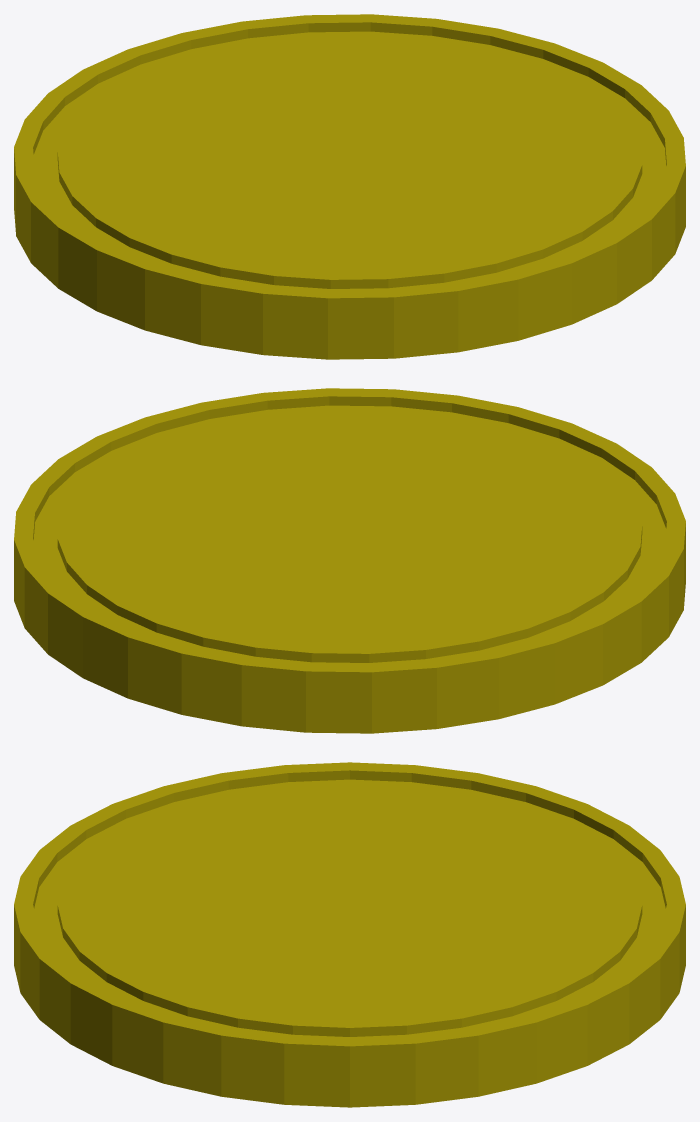
File: COIN.fbx
The picture shows the model from 3 angles, top to bottom: view 1: azimuth 30°, elevation 25°; view 2: azimuth 150°, elevation 25°; view 3: azimuth 270°, elevation 25°; orthographic projection.
Parts seen in each view (by area): view 1: Circle; view 2: Circle; view 3: Circle.
Boxes of the visible parts, <box> form: Circle: <box>14,14,685,359</box>; Circle: <box>14,388,685,733</box>; Circle: <box>14,762,685,1107</box>.
Bounding box in the file's own units: 200 × 20.1 × 200.
